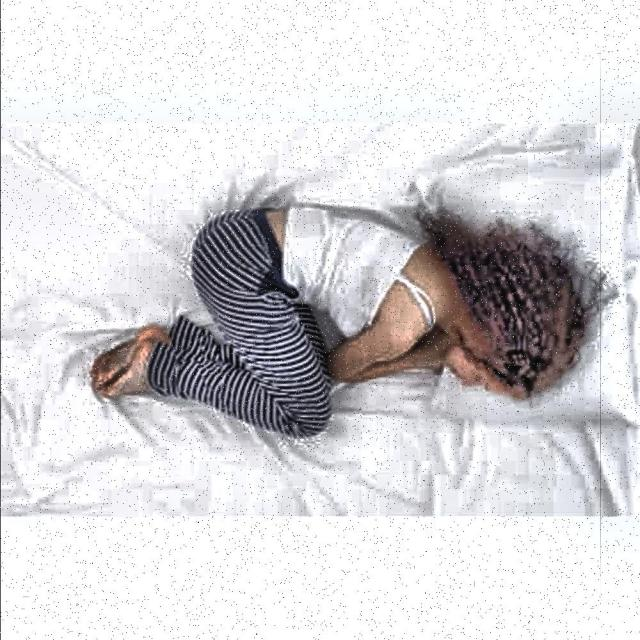Not_Supine: (90, 202, 614, 438)
